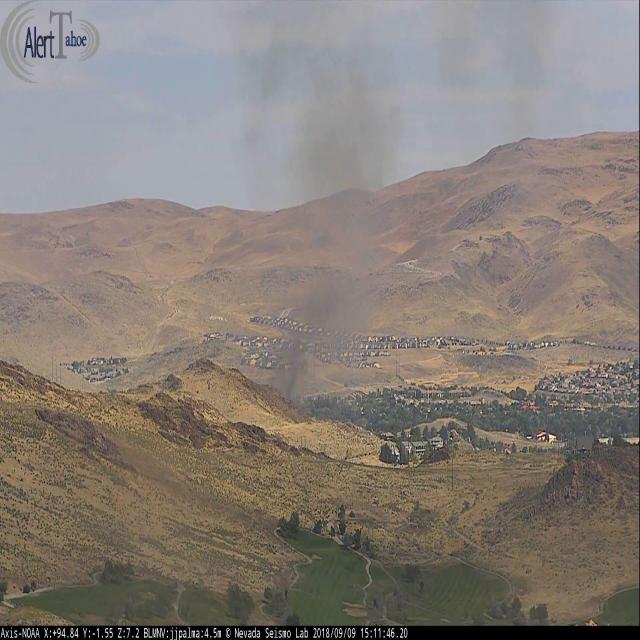smoke: (233, 0, 552, 400)
